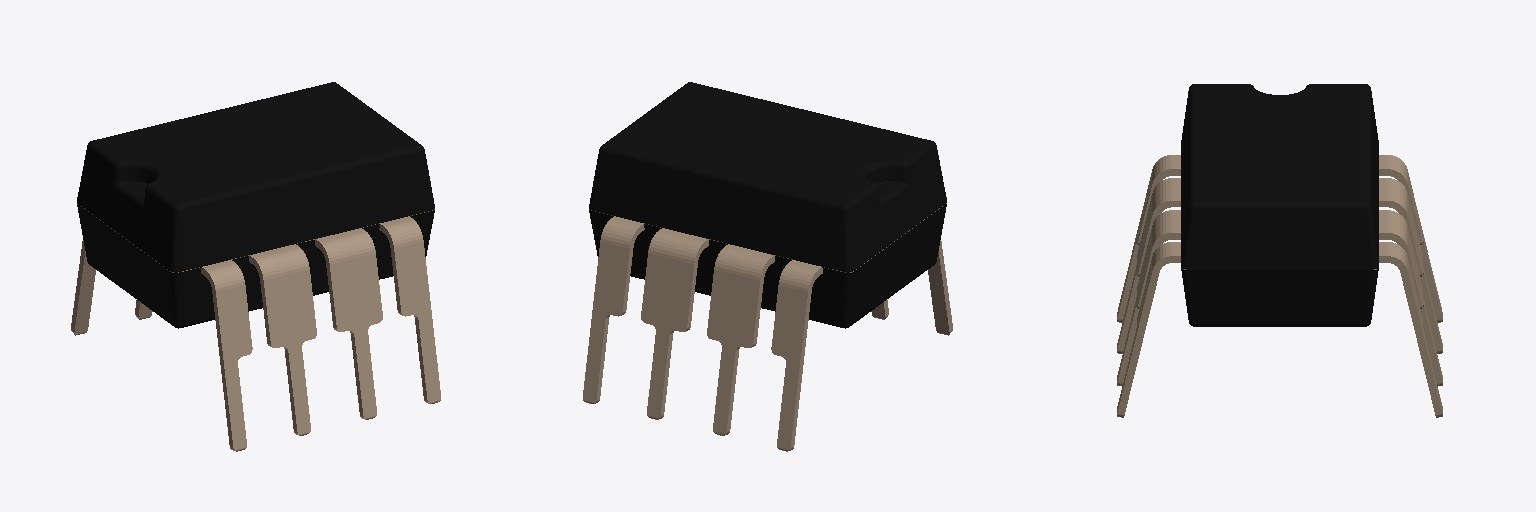
Rendered from OP_AMP.obj.
3 renders of one model, left to right at view 1: azimuth 30°, elevation 25°; view 2: azimuth 150°, elevation 25°; view 3: azimuth 270°, elevation 25°, orthographic.
Visible parts, largest first — view 1: Body1; view 2: Body1; view 3: Body1.
Part boxes in pixels (left/top/right/bottom): Body1: left=71, top=82, right=440, bottom=451; Body1: left=583, top=82, right=952, bottom=451; Body1: left=1117, top=84, right=1442, bottom=417.
Bounding box in the file's own units: 0.1016 × 0.0829 × 0.1088.